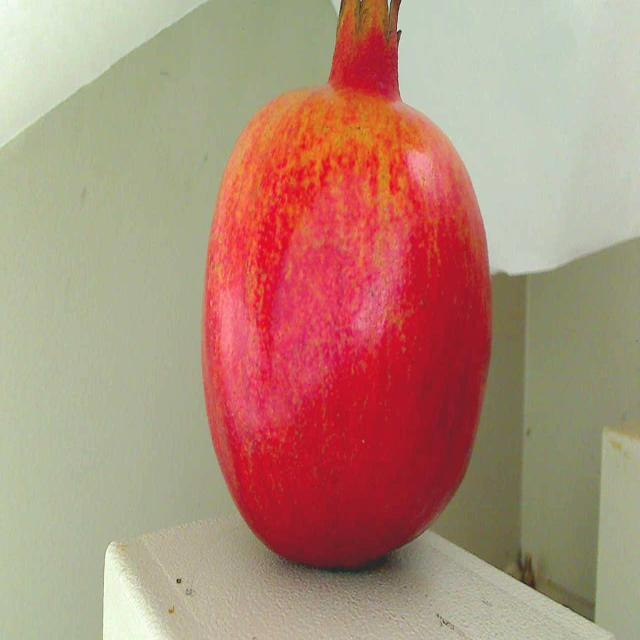pomegranate: (190, 0, 503, 581)
